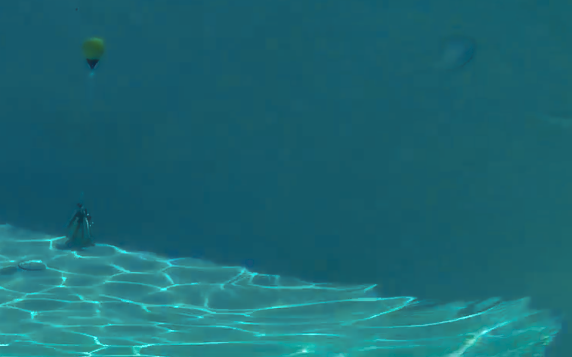yellow_buoy: (80, 34, 106, 70)
